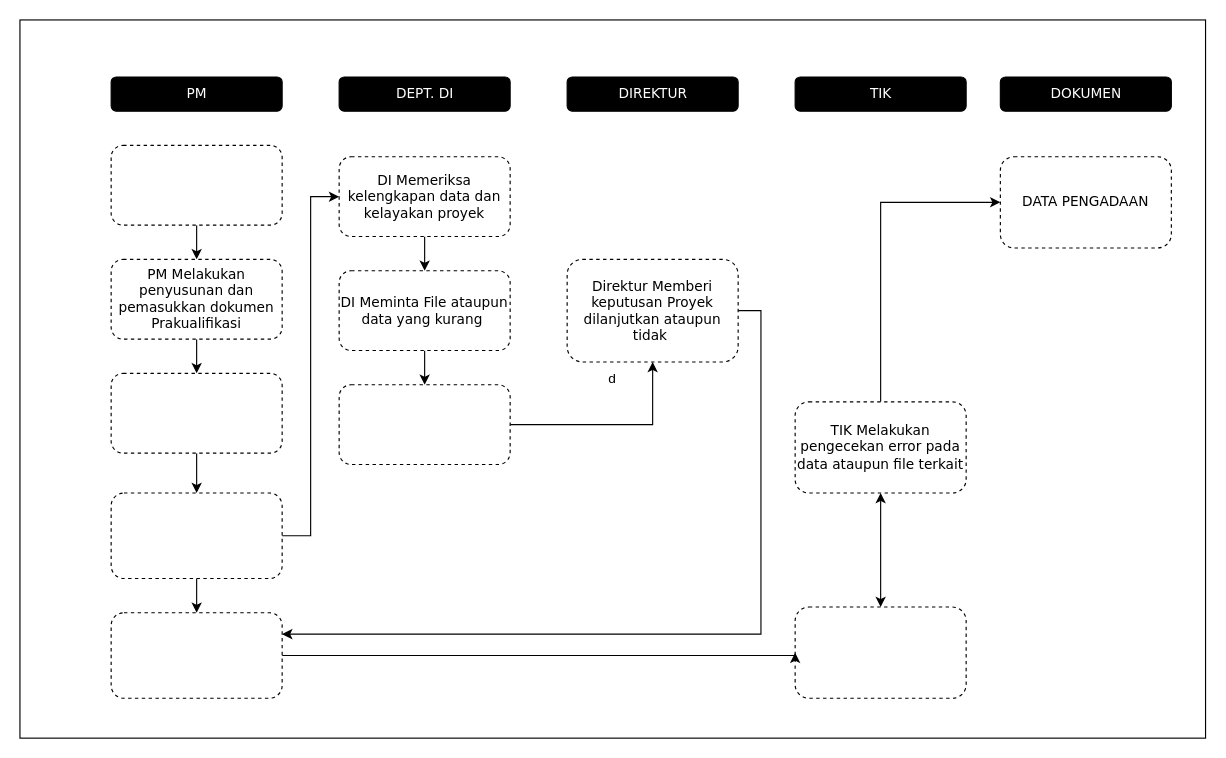
Some shapes in this 1226 by 758 pixel diagram are drawn without their labels. The shapes that lost their labels are listed below. From the top down, each one's box as (x1, y1, x2, y2) in pixels, then its label:
(110, 144, 282, 225): PM Melakukan penyusunan dan pemasukkan dokumen Pendaftaran
(110, 372, 282, 453): PM Melakukan penyusunan dan pemasukkan dokumen Proposal
(338, 384, 510, 465): DI Meminta keputusan kepada Dirut
(110, 492, 282, 579): PM Mengajukan pengecekan kelayakan kepada Dept DI
(110, 612, 282, 698): PM Mengajukan pemindahan data sesuai keputusan proyek dari Dirut
(794, 606, 966, 698): TIK memindahkan Data ke laman Data Pengadaan atau Rekapan Proyek Gagal
